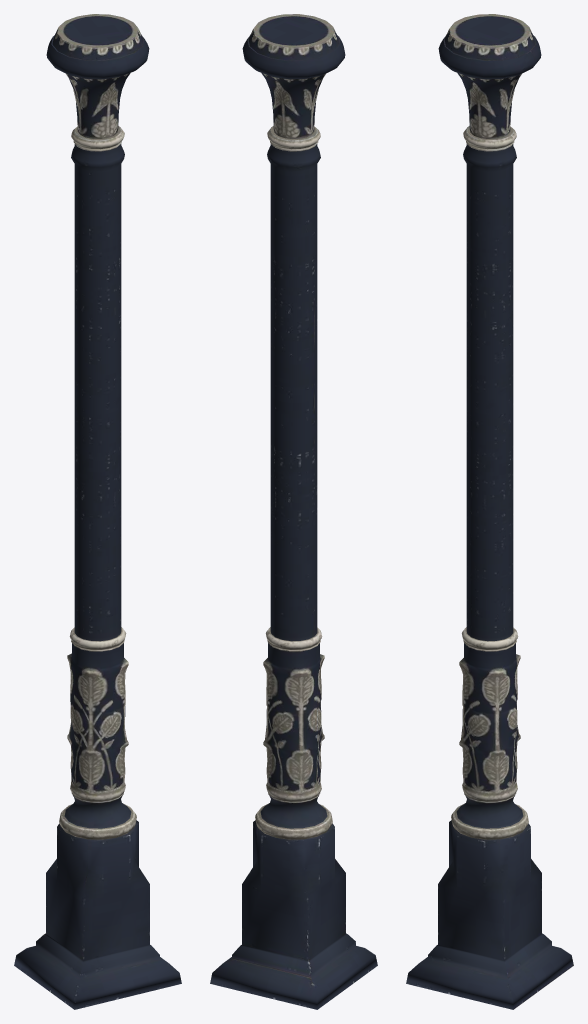
Rendered from victorian_pillar.glb.
3 renders of one model, left to right at view 1: azimuth 30°, elevation 25°; view 2: azimuth 150°, elevation 25°; view 3: azimuth 330°, elevation 25°, orthographic.
Parts seen in each view (by area): view 1: pasted__pasted__polySurface14; view 2: pasted__pasted__polySurface14; view 3: pasted__pasted__polySurface14.
Part boxes in pixels (x1,y1,x2,y2): pasted__pasted__polySurface14: (14, 14, 181, 1009); pasted__pasted__polySurface14: (210, 14, 377, 1009); pasted__pasted__polySurface14: (406, 14, 573, 1009).
Bounding box in the file's own units: 0.238 × 2 × 0.2327.
1 material, 1 textured.
